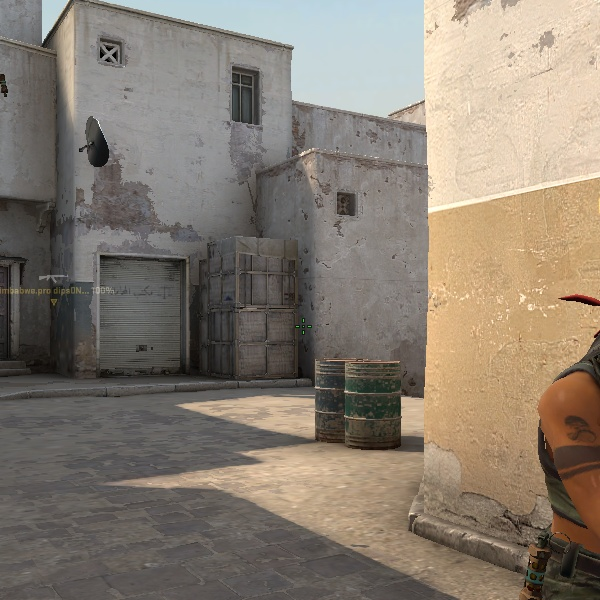t_body: (535, 298, 600, 599)
t_head: (579, 304, 598, 384)
